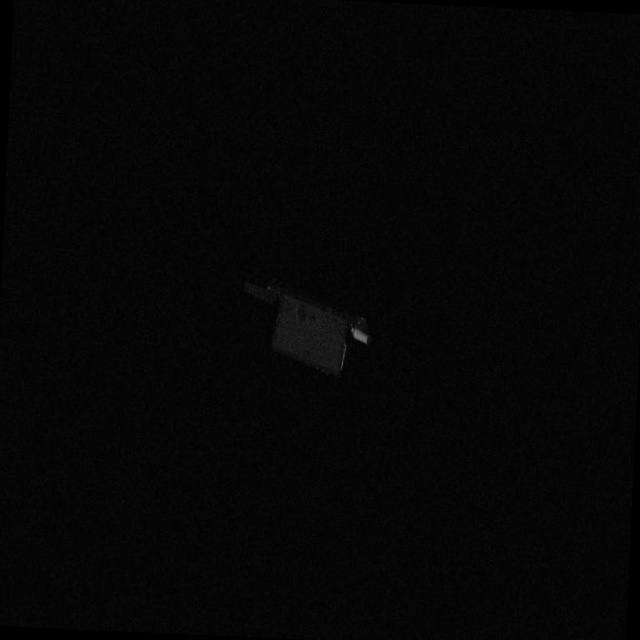satellite: (233, 270, 396, 389)
